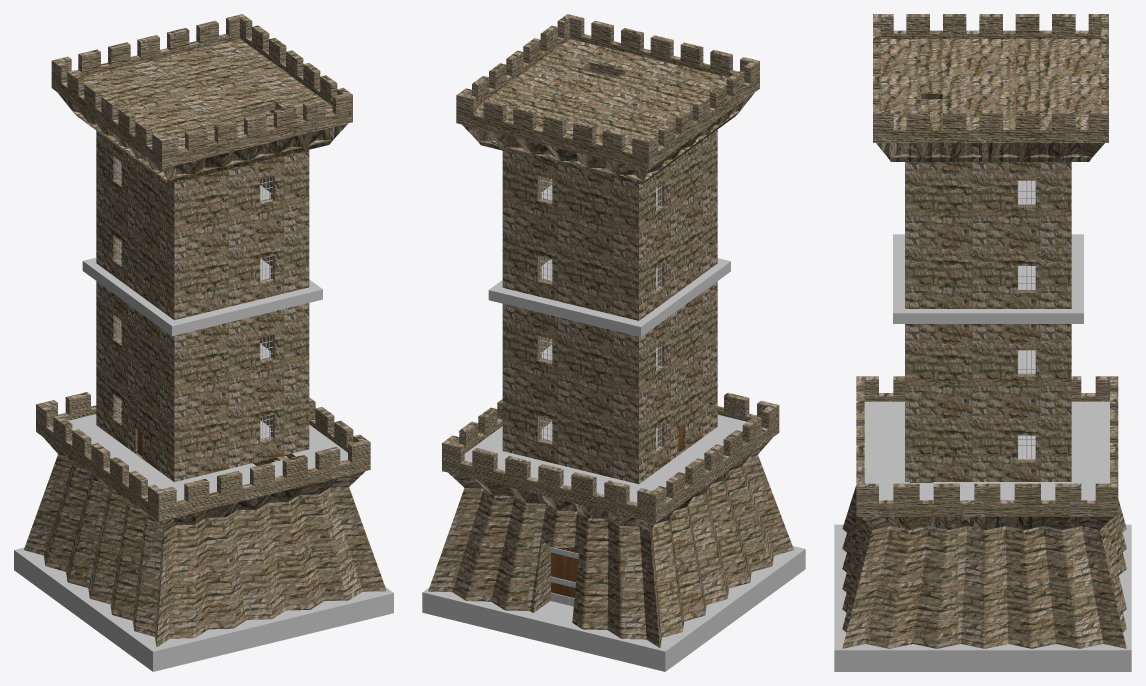
The model's file is tower.FBX.
The picture shows the model from 3 angles, left to right: view 1: azimuth 30°, elevation 25°; view 2: azimuth 150°, elevation 25°; view 3: azimuth 270°, elevation 25°; orthographic projection. The views are drawn at different scales.
Parts seen in each view (by area): view 1: base, merli2, torre1, Torre2, merli1, piano, cornice; view 2: base, merli2, torre1, Torre2, merli1, piano, cornice, PortoneB; view 3: base, merli2, torre1, Torre2, merli1, piano, cornice.
Boxes of the visible parts, <box> form: base: <box>24,437,386,646</box>; merli2: <box>51,14,352,183</box>; torre1: <box>96,281,309,482</box>; Torre2: <box>96,130,309,320</box>; merli1: <box>36,392,370,521</box>; piano: <box>14,547,393,671</box>; cornice: <box>82,257,322,336</box>; base: <box>428,438,793,647</box>; merli2: <box>456,14,759,184</box>; torre1: <box>502,281,717,484</box>; Torre2: <box>502,130,717,320</box>; merli1: <box>442,392,779,523</box>; piano: <box>422,546,805,671</box>; cornice: <box>488,258,730,337</box>; PortoneB: <box>551,547,570,596</box>; base: <box>842,482,1126,648</box>; merli2: <box>873,14,1108,161</box>; torre1: <box>905,324,1071,481</box>; Torre2: <box>905,162,1071,308</box>; merli1: <box>856,376,1118,516</box>; piano: <box>834,524,1131,671</box>; cornice: <box>893,234,1083,323</box>.
Size of the model in its own units: 63.5 by 129 by 63.5.
